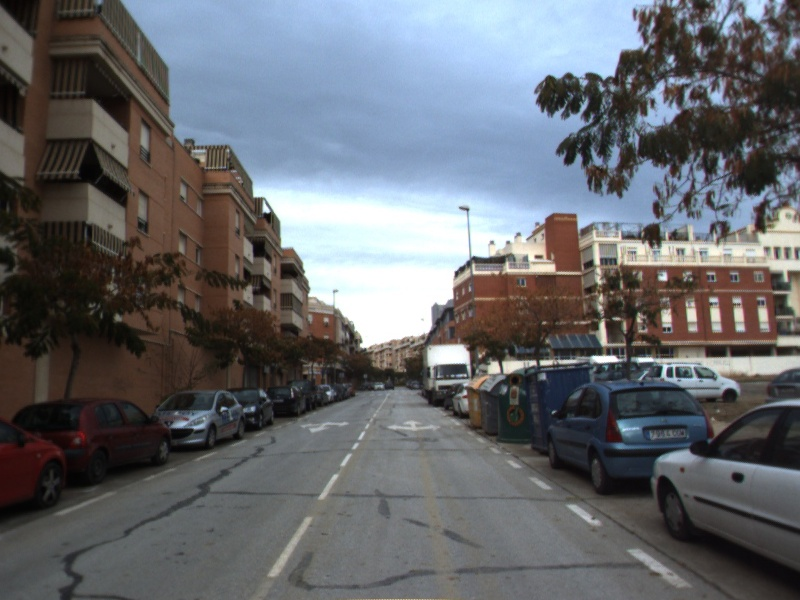STRAIGHT_LEFT_RIGHT: (384, 418, 443, 434)
